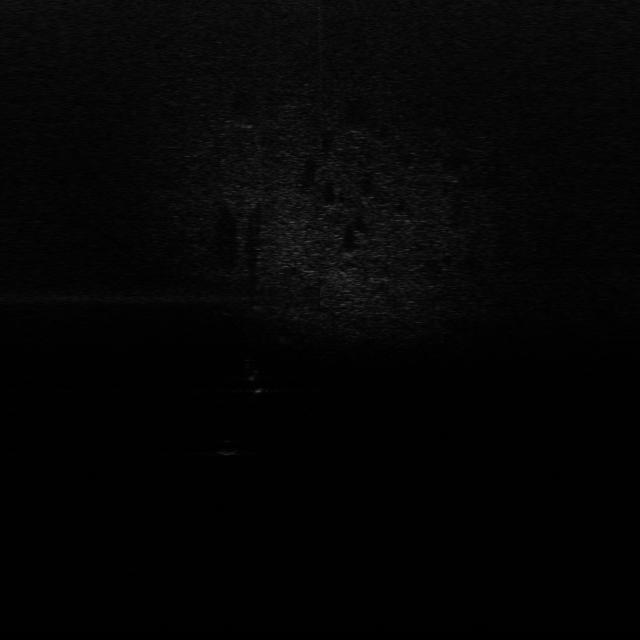ball: (217, 440, 242, 458)
human body: (241, 356, 268, 405)
